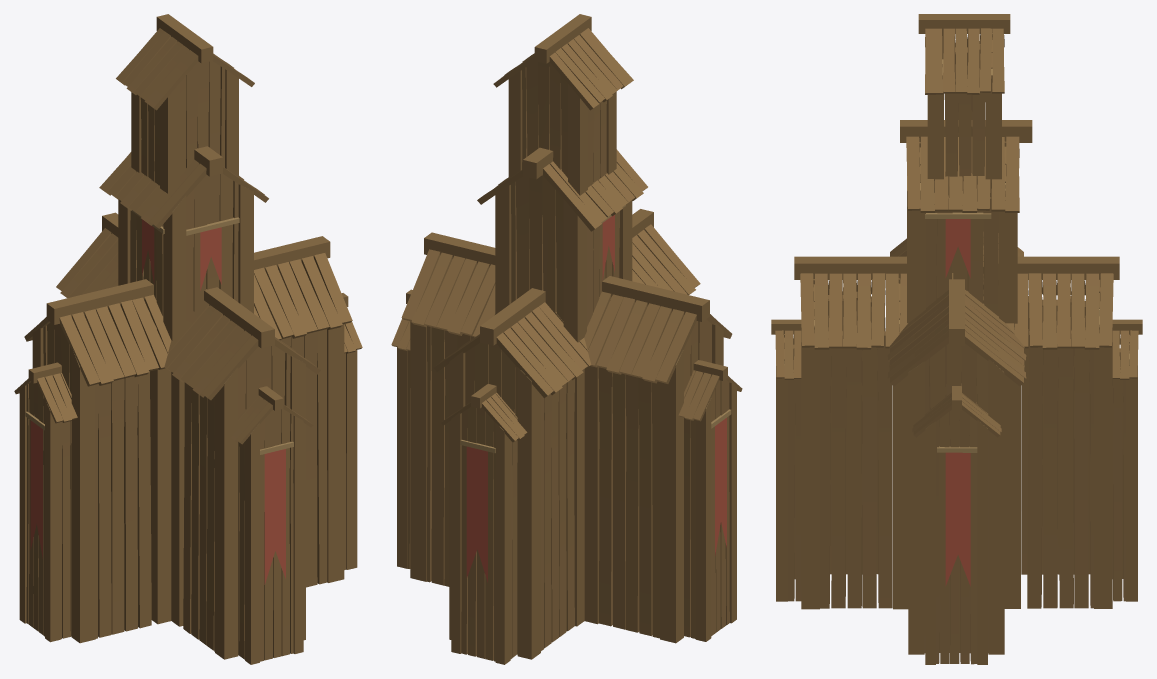
Rendered from quaternius-real-time-strategy-temple-first-age-level-2.glb.
3 renders of one model, left to right at view 1: azimuth 30°, elevation 25°; view 2: azimuth 150°, elevation 25°; view 3: azimuth 270°, elevation 25°, orthographic. The views are drawn at different scales.
Parts seen in each view (by area): view 1: Temple_FirstAge_Level2; view 2: Temple_FirstAge_Level2; view 3: Temple_FirstAge_Level2.
Part boxes in pixels (<box>): Temple_FirstAge_Level2: <box>14,14,362,664</box>; Temple_FirstAge_Level2: <box>391,14,742,664</box>; Temple_FirstAge_Level2: <box>771,14,1142,664</box>.
Size of the model in its own units: 1.81 by 3.08 by 1.81.
